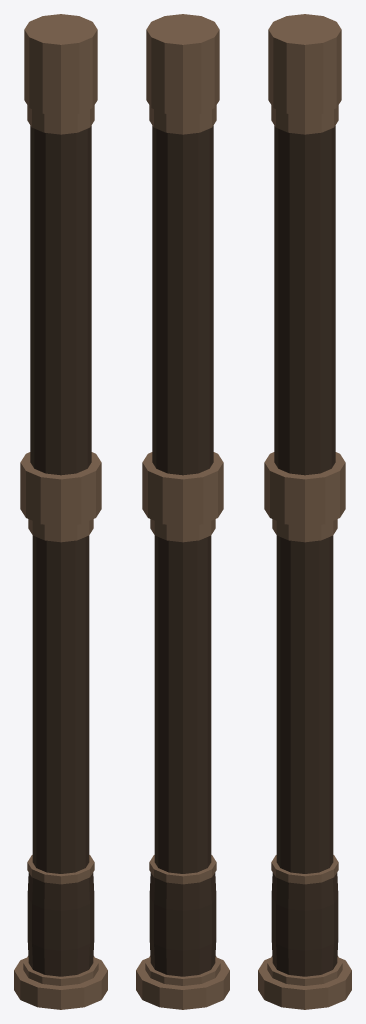
Rendered from SM_column_norse_02.fbx.
3 renders of one model, left to right at view 1: azimuth 30°, elevation 25°; view 2: azimuth 210°, elevation 25°; view 3: azimuth 270°, elevation 25°, orthographic.
Parts seen in each view (by area): view 1: Cylinder054; view 2: Cylinder054; view 3: Cylinder054.
Part boxes in pixels (box(x1,y1,x2,y2)): Cylinder054: box(14, 14, 107, 1009); Cylinder054: box(136, 14, 229, 1009); Cylinder054: box(258, 14, 351, 1009).
Size of the model in its own units: 34.39 by 388 by 34.39.
